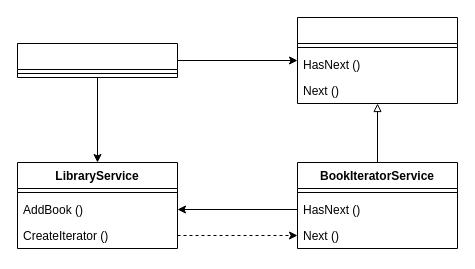
The diagram is 475 pixels wide and 269 high, and some of its shapes have lost their labels. The box of each missing label's shape, as (x1, y1, x2, y2) in pixels:
Client: (16, 42, 178, 78)
IIterator: (296, 16, 458, 104)
